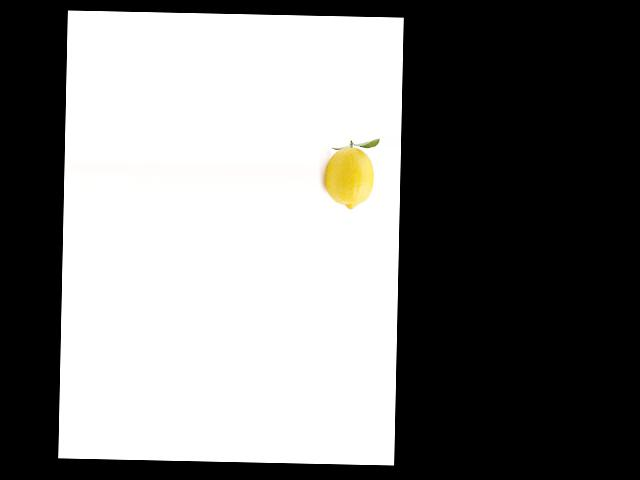lemon: (321, 144, 375, 213)
